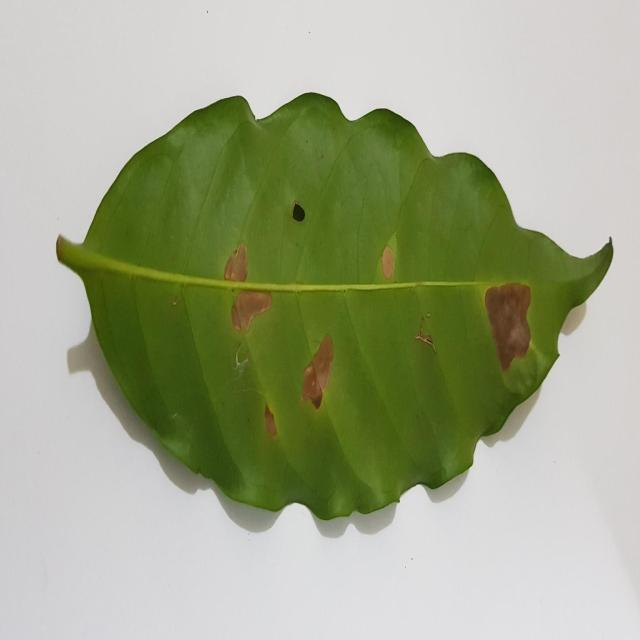miner: (484, 283, 531, 371), (302, 332, 334, 410), (231, 290, 272, 332), (258, 383, 278, 439), (376, 233, 397, 282), (224, 241, 248, 281)
